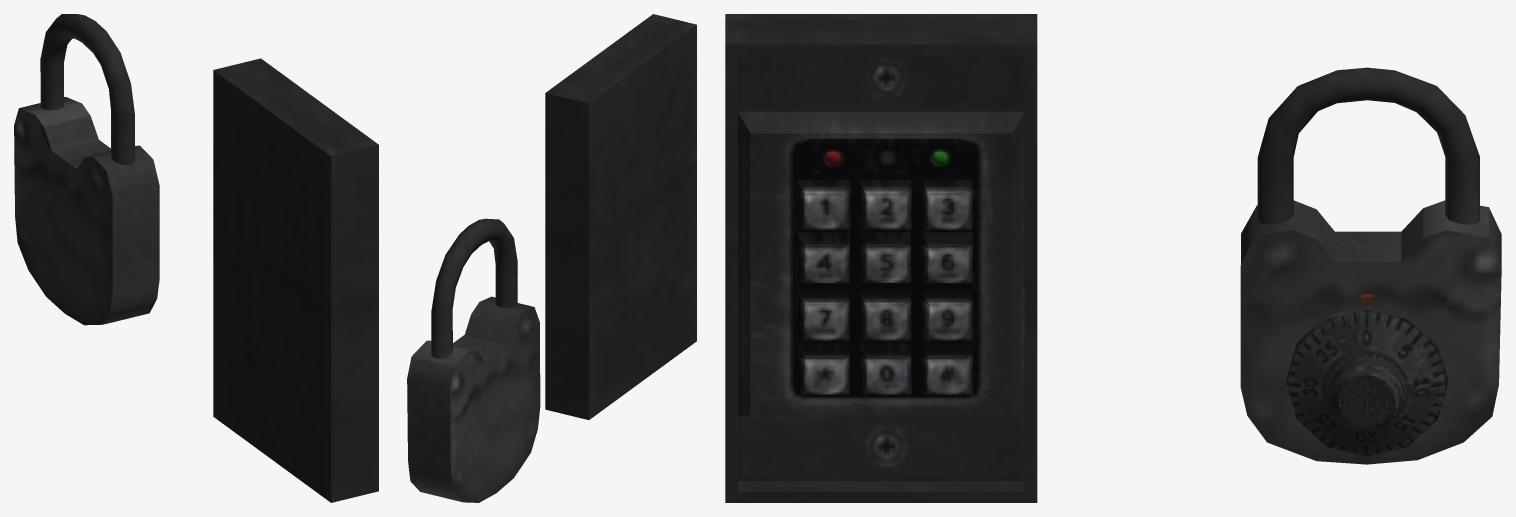
File: KEYLOCK.fbx
3 views of the same model, side by side, from view 1: azimuth 30°, elevation 25°; view 2: azimuth 150°, elevation 25°; view 3: azimuth 270°, elevation 25° (orthographic). The views are drawn at different scales.
Parts seen in each view (by area): view 1: keypad_2, padlock_4, padlock_4_shackle; view 2: keypad_2, padlock_4, padlock_4_shackle; view 3: keypad_2, padlock_4, padlock_4_knob, padlock_4_shackle, keypad_2.002, keypad_2.013, keypad_2.003, keypad_2.006, keypad_2.005, keypad_2.004, keypad_2.009, keypad_2.012 (+4 smaller).
Part boxes in pixels (x1,y1,x2,y2): keypad_2: [213, 58, 378, 502]; padlock_4: [14, 97, 159, 325]; padlock_4_shackle: [40, 14, 134, 164]; keypad_2: [545, 14, 696, 419]; padlock_4: [407, 296, 540, 502]; padlock_4_shackle: [431, 218, 517, 358]; keypad_2: [725, 14, 1037, 502]; padlock_4: [1240, 200, 1501, 464]; padlock_4_knob: [1286, 306, 1448, 456]; padlock_4_shackle: [1257, 67, 1479, 224]; keypad_2.002: [797, 179, 850, 230]; keypad_2.013: [858, 290, 911, 341]; keypad_2.003: [859, 179, 911, 230]; keypad_2.006: [859, 343, 911, 394]; keypad_2.005: [797, 343, 849, 394]; keypad_2.004: [922, 179, 973, 231]; keypad_2.009: [798, 232, 849, 283]; keypad_2.012: [798, 290, 849, 341].
Bounding box in the file's own units: 7.85 × 31.21 × 47.93.
